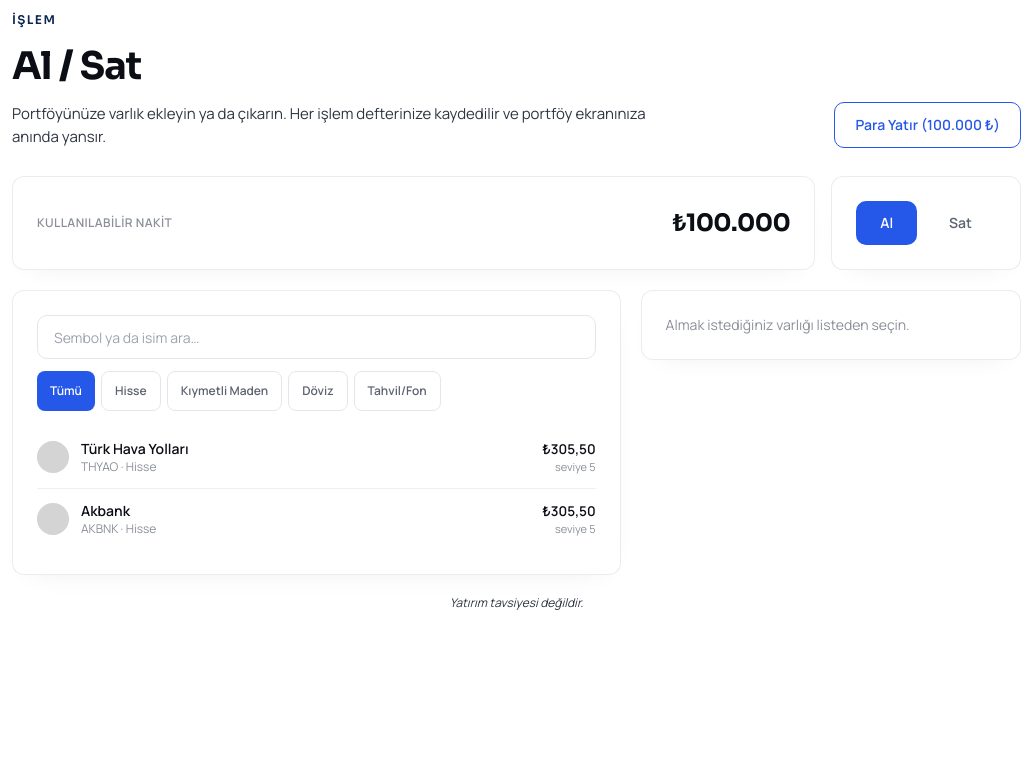
it: TradePage › arama sembol ve isimde çalışır
Expected: the button "Akbank AKBNK · Hisse ₺305,50 seviye 5" is shown, [37,488,596,550]
Type "akb" into the field with placeholder "Sembol ya da isim ara…". click: x=316, y=337
box: [37,315,596,359]
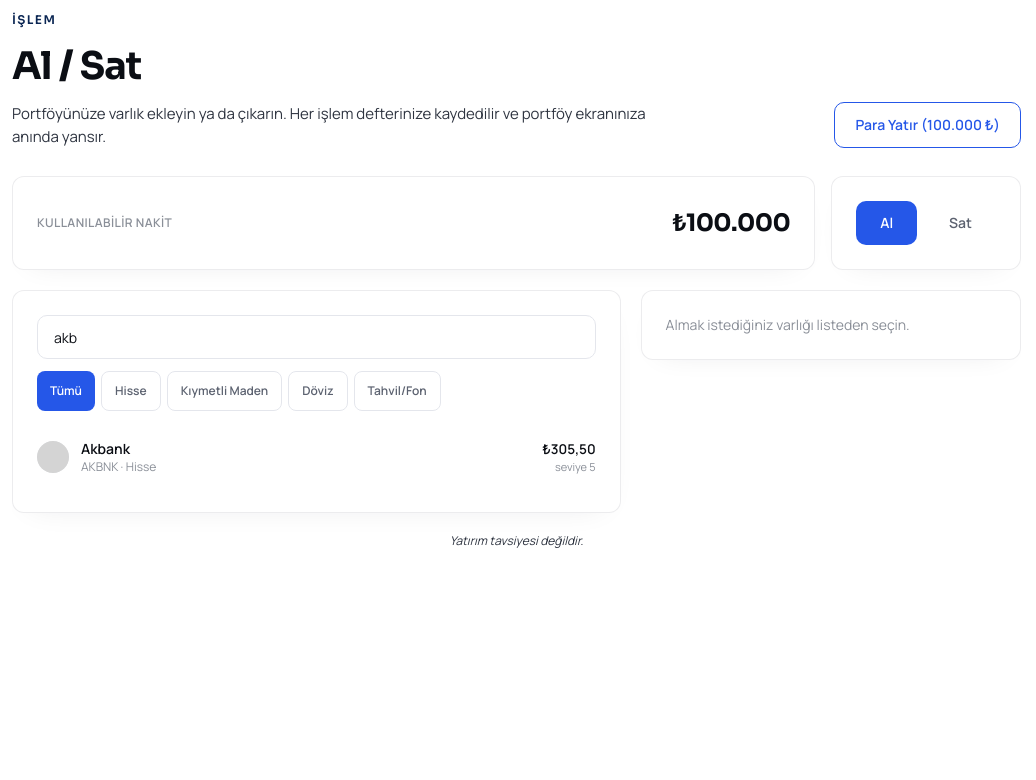
Expected: the button "Akbank AKBNK · Hisse ₺305,50 seviye 5" is shown, [37,427,596,488]
Result: the button "Türk Hava" is gone
